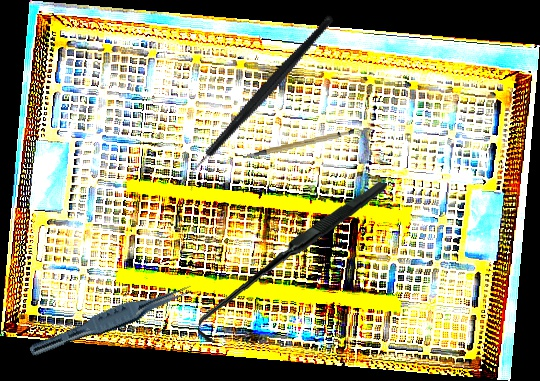Chopper: (147, 13, 374, 193)
Hook Surgical: (197, 173, 388, 351)
Scalpel Handle: (241, 127, 356, 159)
Tissue Forceps: (27, 274, 196, 367)
